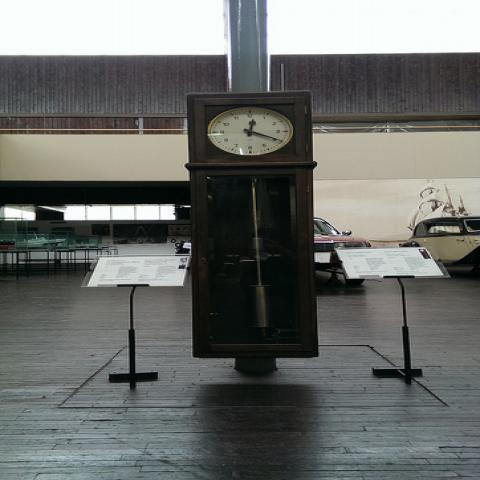car: (398, 216, 478, 266), (316, 218, 369, 266)
